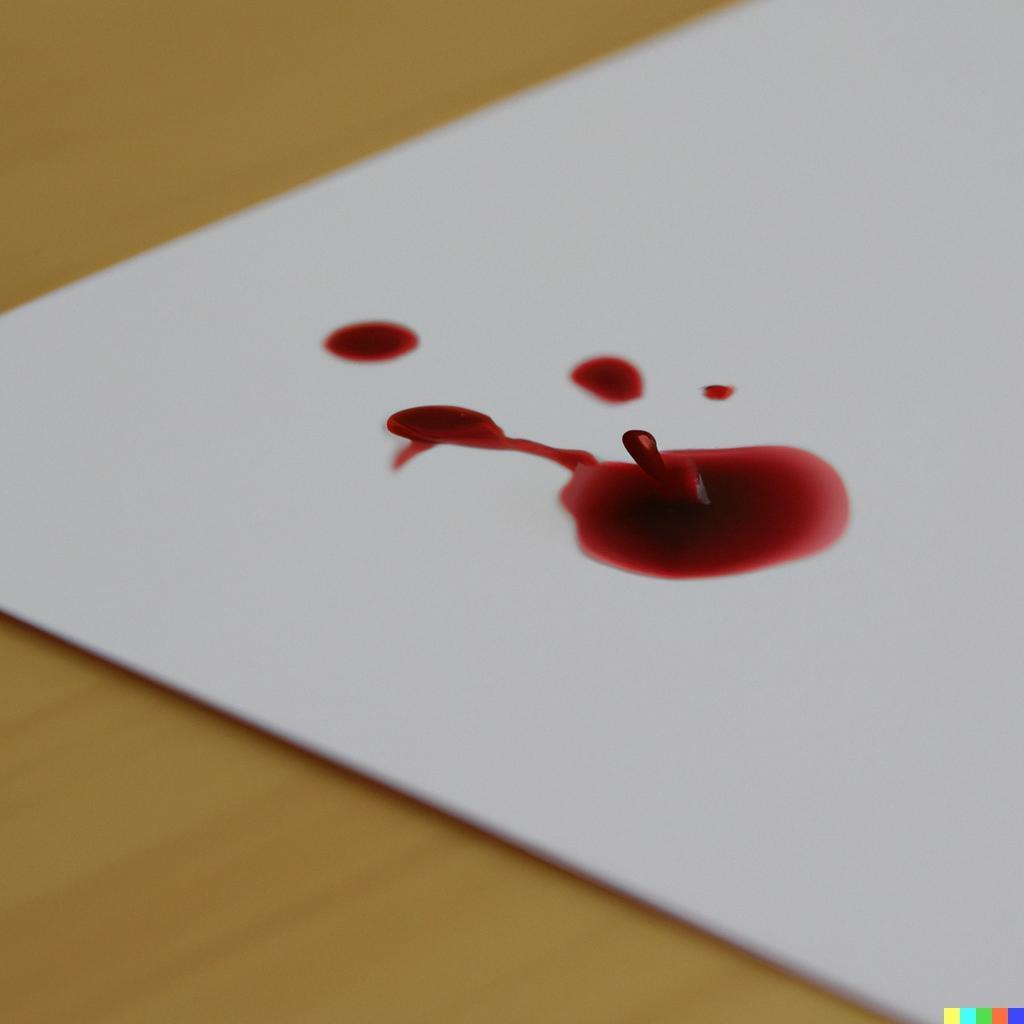Bloodstain-Detection: (576, 436, 853, 573), (384, 404, 506, 454), (328, 320, 418, 363), (576, 360, 643, 404)
